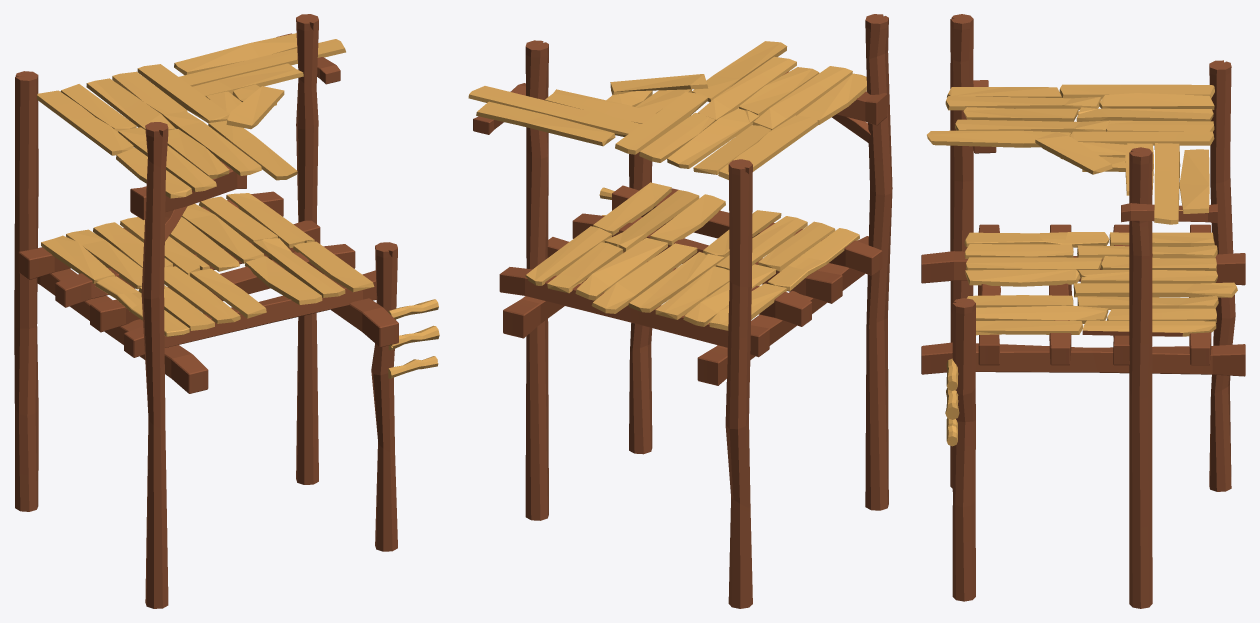
The model's file is Wooden platform 1.fbx.
3 views of the same model, side by side, from view 1: azimuth 30°, elevation 25°; view 2: azimuth 150°, elevation 25°; view 3: azimuth 270°, elevation 25° (orthographic). The views are drawn at different scales.
Parts seen in each view (by area): view 1: Wooden platform 1; view 2: Wooden platform 1; view 3: Wooden platform 1.
Boxes of the visible parts, x1,y1,x2,y2 form: Wooden platform 1: [14, 14, 439, 608]; Wooden platform 1: [468, 14, 892, 608]; Wooden platform 1: [921, 14, 1245, 608].
Bounding box in the file's own units: 423 × 634 × 397.
